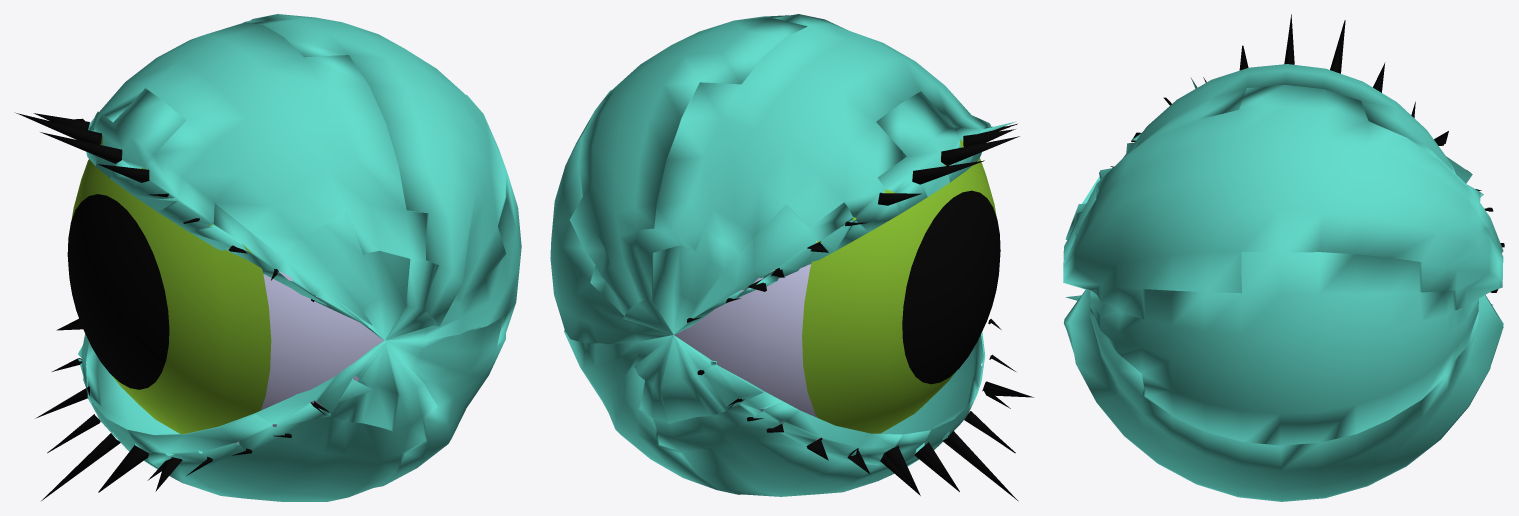
Rendered from Eye_Am_SLEEP_Babeh.fbx.
The picture shows the model from 3 angles, left to right: view 1: azimuth 30°, elevation 25°; view 2: azimuth 150°, elevation 25°; view 3: azimuth 270°, elevation 25°; orthographic projection. The views are drawn at different scales.
Visible parts, largest first — view 1: Eyelid, Eye; view 2: Eyelid, Eye; view 3: Eyelid.
Boxes of the visible parts, x1,y1,x2,y2 form: Eyelid: (15,14,521,501); Eye: (67,135,384,443); Eyelid: (550,14,1033,501); Eye: (674,139,1000,439); Eyelid: (1063,14,1504,501).
Size of the model in its own units: 7340 by 6898 by 6947.
